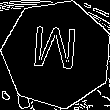M_S: (32, 27, 82, 81)
